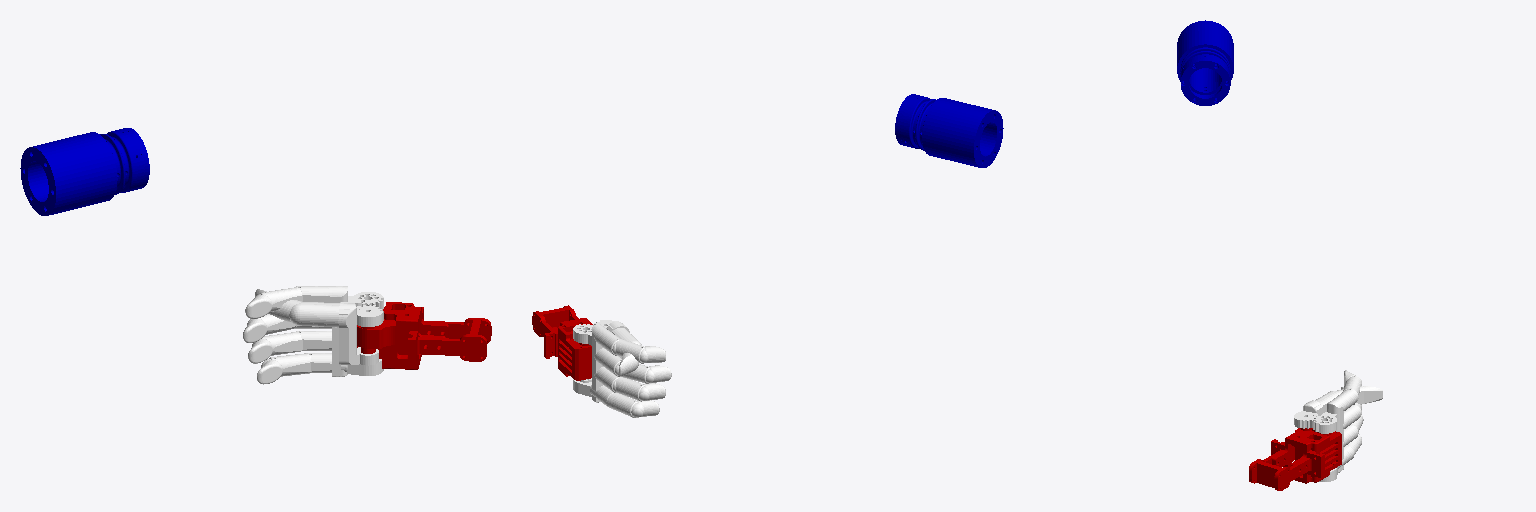
robot.urdf — bmirobot:
<?xml version="1.0" ?>
<!-- =================================================================================== -->
<!-- |    This document was autogenerated by xacro from [local-path]/Documents/ws_moveit/src/bmirobot_pkg/bmirobot_description/urdf/bmirobot_V4.xacro | -->
<!-- |    EDITING THIS FILE BY HAND IS NOT RECOMMENDED                                 | -->
<!-- =================================================================================== -->
<robot name="bmirobot" xmlns:xacro="http://www.ros.org/wiki/xacro">
  <!-- Space btw top of beam and the each joint -->
  <material name="black">
    <color rgba="0.0 0.0 0.0 1.0"/>
  </material>
  <material name="blue">
    <color rgba="0.0 0.0 0.8 1.0"/>
  </material>
  <material name="green">
    <color rgba="0.0 0.8 0.0 1.0"/>
  </material>
  <material name="grey">
    <color rgba="0.2 0.2 0.2 1.0"/>
  </material>
  <material name="orange">
    <color rgba="1.0 0.423529411765 0.0392156862745 1.0"/>
  </material>
  <material name="brown">
    <color rgba="0.870588235294 0.811764705882 0.764705882353 1.0"/>
  </material>
  <material name="red">
    <color rgba="0.8 0.0 0.0 1.0"/>
  </material>
  <material name="white">
    <color rgba="1.0 1.0 1.0 1.0"/>
  </material>
  <!-- Used for fixing robot to Gazebo 'base_link' -->
  <link name="world"/>
  <joint name="fixed" type="fixed">
    <parent link="world"/>
    <child link="odom_combined"/>
  </joint>
  <link name="odom_combined"/>
  <joint name="virtual_joint" type="fixed">
    <parent link="odom_combined"/>
    <child link="base_link"/>
    <origin rpy="0 0 0" xyz="0 0 0.45"/>
  </joint>
  <link name="base_link">
    <visual>
      <geometry>
        <mesh filename="package://test_robot/stl/link1.STL"/>
      </geometry>
      <material name="blue"/>
    </visual>
    <collision>
      <geometry>
        <mesh filename="package://test_robot/stl/link1.STL"/>
      </geometry>
    </collision>
    <inertial>
      <origin rpy="0 0 0" xyz="0 0 1"/>
      <mass value="1"/>
      <inertia ixx="1.0" ixy="0.0" ixz="0.0" iyy="1.0" iyz="0.0" izz="1.0"/>
    </inertial>
  </link>
  <link name="link2">
    <visual>
      <geometry>
        <mesh filename="package://test_robot/stl/link2.STL"/>
      </geometry>
      <origin rpy="0 0 0" xyz="0 0 0"/>
      <material name="white"/>
    </visual>
    <collision>
      <geometry>
        <mesh filename="package://test_robot/stl/link2.STL"/>
      </geometry>
      <origin rpy="0 0 0" xyz="0 0 0"/>
    </collision>
    <inertial>
      <origin rpy="0 0 0" xyz="0 0 1"/>
      <mass value="1"/>
      <inertia ixx="1.0" ixy="0.0" ixz="0.0" iyy="1.0" iyz="0.0" izz="1.0"/>
    </inertial>
  </link>
  <link name="link3">
    <visual>
      <geometry>
        <mesh filename="package://test_robot/stl/link3.STL"/>
      </geometry>
      <origin rpy="0 0 0" xyz="0 0 0"/>
      <material name="blue"/>
    </visual>
    <collision>
      <geometry>
        <mesh filename="package://test_robot/stl/link3.STL"/>
      </geometry>
      <origin rpy="0 0 0" xyz="0 0 0"/>
    </collision>
    <inertial>
      <origin rpy="0 0 0" xyz="0 0 1"/>
      <mass value="1"/>
      <inertia ixx="1.0" ixy="0.0" ixz="0.0" iyy="1.0" iyz="0.0" izz="1.0"/>
    </inertial>
  </link>
  <link name="link4">
    <visual>
      <geometry>
        <mesh filename="package://test_robot/stl/link2.STL"/>
      </geometry>
      <origin rpy="0 0 0" xyz="0 0 0"/>
      <material name="white"/>
    </visual>
    <collision>
      <geometry>
        <mesh filename="package://test_robot/stl/link2.STL"/>
      </geometry>
      <origin rpy="0 0 0" xyz="0 0 0"/>
    </collision>
    <inertial>
      <origin rpy="0 0 0" xyz="0 0 1"/>
      <mass value="1"/>
      <inertia ixx="1.0" ixy="0.0" ixz="0.0" iyy="1.0" iyz="0.0" izz="1.0"/>
    </inertial>
  </link>
  <link name="link5">
    <visual>
      <geometry>
        <mesh filename="package://test_robot/stl/link5.STL"/>
      </geometry>
      <origin rpy="0 0 0" xyz="0 0 0"/>
      <material name="blue"/>
    </visual>
    <collision>
      <geometry>
        <mesh filename="package://test_robot/stl/link5.STL"/>
      </geometry>
      <origin rpy="0 0 0" xyz="0 0 0"/>
    </collision>
    <inertial>
      <origin rpy="0 0 0" xyz="0 0 1"/>
      <mass value="1"/>
      <inertia ixx="1.0" ixy="0.0" ixz="0.0" iyy="1.0" iyz="0.0" izz="1.0"/>
    </inertial>
  </link>
  <link name="link6">
    <visual>
      <geometry>
        <mesh filename="package://test_robot/stl/link6.STL"/>
      </geometry>
      <origin rpy="0 0 0" xyz="0 0 0"/>
      <material name="red"/>
    </visual>
    <collision>
      <geometry>
        <mesh filename="package://test_robot/stl/link6.STL"/>
      </geometry>
      <origin rpy="0 0 0" xyz="0 0 0"/>
    </collision>
    <inertial>
      <origin rpy="0 0 0" xyz="0 0 1"/>
      <mass value="1"/>
      <inertia ixx="1.0" ixy="0.0" ixz="0.0" iyy="1.0" iyz="0.0" izz="1.0"/>
    </inertial>
  </link>
  <link name="link7">
    <visual>
      <geometry>
        <mesh filename="package://test_robot/stl/link7.STL"/>
      </geometry>
      <origin rpy="0 0 0" xyz="0 0 0"/>
      <material name="blue"/>
    </visual>
    <collision>
      <geometry>
        <mesh filename="package://test_robot/stl/link7.STL"/>
      </geometry>
      <origin rpy="0 0 0" xyz="0 0 0"/>
    </collision>
    <inertial>
      <origin rpy="0 0 0" xyz="0 0 1"/>
      <mass value="1"/>
      <inertia ixx="1.0" ixy="0.0" ixz="0.0" iyy="1.0" iyz="0.0" izz="1.0"/>
    </inertial>
  </link>
  <link name="link8">
    <visual>
      <geometry>
        <mesh filename="package://test_robot/stl/link8.STL"/>
      </geometry>
      <origin rpy="0 0 0" xyz="0 0 0"/>
      <material name="red"/>
    </visual>
    <collision>
      <geometry>
        <mesh filename="package://test_robot/stl/link8.STL"/>
      </geometry>
      <origin rpy="0 0 0" xyz="0 0 0"/>
    </collision>
    <inertial>
      <origin rpy="0 0 0" xyz="0 0 1"/>
      <mass value="1"/>
      <inertia ixx="1.0" ixy="0.0" ixz="0.0" iyy="1.0" iyz="0.0" izz="1.0"/>
    </inertial>
  </link>
  <link name="hand_1">
    <visual>
      <geometry>
        <mesh filename="package://test_robot/stl/hand_1.STL"/>
      </geometry>
      <origin rpy="0 0 0" xyz="0 0 0"/>
      <material name="white"/>
    </visual>
    <collision>
      <geometry>
        <mesh filename="package://test_robot/stl/hand_1.STL"/>
      </geometry>
      <origin rpy="0 0 0" xyz="0 0 0"/>
    </collision>
    <inertial>
      <origin rpy="0 0 0" xyz="0 0 1"/>
      <mass value="1"/>
      <inertia ixx="1.0" ixy="0.0" ixz="0.0" iyy="1.0" iyz="0.0" izz="1.0"/>
    </inertial>
  </link>
  <link name="hand_4">
    <visual>
      <geometry>
        <mesh filename="package://test_robot/stl/hand_4.STL"/>
      </geometry>
      <origin rpy="0 0 0" xyz="0 0 0"/>
      <material name="white"/>
    </visual>
    <collision>
      <geometry>
        <mesh filename="package://test_robot/stl/hand_4.STL"/>
      </geometry>
      <origin rpy="0 0 0" xyz="0 0 0"/>
    </collision>
    <inertial>
      <origin rpy="0 0 0" xyz="0 0 1"/>
      <mass value="1"/>
      <inertia ixx="1.0" ixy="0.0" ixz="0.0" iyy="1.0" iyz="0.0" izz="1.0"/>
    </inertial>
  </link>
  <joint name="joint1" type="revolute">
    <limit effort="1000.0" lower="-1.25663706144" upper="1.25663706144" velocity="0.5"/>
    <origin rpy="0 0 0" xyz="0.026 0 0"/>
    <axis xyz="1 0 0"/>
    <parent link="base_link"/>
    <child link="link2"/>
    <dynamics damping="0.7"/>
  </joint>
  <joint name="joint2" type="revolute">
    <limit effort="1000.0" lower="-1.88495559215" upper="0.575958653158" velocity="0.5"/>
    <origin rpy="0 1.5708 0" xyz="0.063 0 0"/>
    <axis xyz="0 1 0"/>
    <parent link="link2"/>
    <child link="link3"/>
    <dynamics damping="0.7"/>
  </joint>
  <joint name="joint3" type="revolute">
    <limit effort="1000.0" lower="-1.25663706144" upper="1.25663706144" velocity="0.5"/>
    <origin rpy="0 0 0" xyz="0.1826 0 0"/>
    <axis xyz="1 0 0"/>
    <parent link="link3"/>
    <child link="link4"/>
    <dynamics damping="0.7"/>
  </joint>
  <joint name="joint4" type="revolute">
    <limit effort="1000.0" lower="-0.63" upper="1.25663706144" velocity="0.5"/>
    <origin rpy="0 -1.5708 0" xyz="0.063 0 0"/>
    <axis xyz="0 1 0"/>
    <parent link="link4"/>
    <child link="link5"/>
    <dynamics damping="0.7"/>
  </joint>
  <joint name="joint5" type="revolute">
    <limit effort="1000.0" lower="-2.51327412287" upper="2.51327412287" velocity="0.5"/>
    <origin rpy="-1.5708 0 0" xyz="0.211 0 0.000"/>
    <axis xyz="1 0 0"/>
    <parent link="link5"/>
    <child link="link6"/>
    <dynamics damping="0.7"/>
  </joint>
  <joint name="joint6" type="revolute">
    <limit effort="1000.0" lower="-2.51327412287" upper="-2.51327412287" velocity="0.5"/>
    <origin rpy="0 0.0 0" xyz="0.1845 0 0"/>
    <axis xyz="0 1 0"/>
    <parent link="link6"/>
    <child link="link7"/>
    <dynamics damping="0.7"/>
  </joint>
  <joint name="joint7" type="revolute">
    <limit effort="1000.0" lower="-0.25" upper="0.25" velocity="0.5"/>
    <origin rpy="0 0.0 0" xyz="0.1 0 0"/>
    <axis xyz="0 0 1"/>
    <parent link="link7"/>
    <child link="link8"/>
    <dynamics damping="0.7"/>
  </joint>
  <joint name="hand_joint_1" type="revolute">
    <limit effort="1000.0" lower="-0.9" upper="0" velocity="0.5"/>
    <origin rpy="0 0 0" xyz="0.0775 -0.0265 0.01475"/>
    <axis xyz="0 1 0"/>
    <parent link="link8"/>
    <child link="hand_1"/>
    <dynamics damping="0.7"/>
  </joint>
  <joint name="hand_joint_4" type="revolute">
    <limit effort="1000.0" lower="0" upper="0.9" velocity="0.5"/>
    <origin rpy="0 0 0" xyz="0.0795 -0.0185 -0.005"/>
    <axis xyz="0 1 0"/>
    <parent link="link8"/>
    <child link="hand_4"/>
    <dynamics damping="0.7"/>
  </joint>
  <!--joint name="camera_joint" type="fixed">
    <axis xyz="0 1 0" />
    <origin xyz="${camera_link} 0 -0.05" rpy="${0.5 * pi} 0 0"/>
    <parent link="link8"/>
    <child link="camera_link"/>
  </joint-->
  <joint name="rgbd_joint" type="fixed">
    <axis xyz="1 0 0"/>
    <origin rpy="0 0.942477796077 0" xyz="0 0.25 0.2"/>
    <parent link="base_link"/>
    <child link="rgbd_link"/>
  </joint>
  <!-- rgbd Camera -->
  <!--
  <link name="camera_depth_optical_frame">
    <collision>
      <origin xyz="0 0 0" rpy="0 0 0"/>
      <geometry>
    <box size="0.001 0.001 0.001"/>
      </geometry>
    </collision>

    <visual>
      <origin xyz="0 0 0" rpy="0 0 0"/>
      <geometry>
    <box size="0.001 0.001 0.001"/>
      </geometry>
      <material name="red"/>
    </visual>

    <inertial>
      <mass value="1e-5" />
      <origin xyz="0 0 0" rpy="0 0 0"/>
      <inertia ixx="1e-6" ixy="0" ixz="0" iyy="1e-6" iyz="0" izz="1e-6" />
    </inertial>
  </link>
  <joint name="camera_depth_optical_frame_joint" type="fixed">
    <axis xyz="1 0 0" />
    <origin xyz="0 0.25 0.2" rpy="${0.2 * pi} ${-1 * pi} ${0.5 * pi}"/>
    <parent link="base_link"/>
    <child link="camera_depth_optical_frame"/>
  </joint>
-->
  <!-- rgbd Camera -->
  <!--link name="camera_link">
    <collision>
      <origin xyz="0 0 0" rpy="0 0 0"/>
      <geometry>
    <box size="${camera_link} ${camera_link} ${camera_link}"/>
      </geometry>
    </collision>

    <visual>
      <origin xyz="0 0 0" rpy="0 0 0"/>
      <geometry>
    <box size="${camera_link} ${camera_link} ${camera_link}"/>
      </geometry>
      <material name="red"/>
    </visual>

    <inertial>
      <mass value="1e-5" />
      <origin xyz="0 0 0" rpy="0 0 0"/>
      <inertia ixx="1e-6" ixy="0" ixz="0" iyy="1e-6" iyz="0" izz="1e-6" />
    </inertial>
  </link-->
  <!-- kinect -->
  <link name="rgbd_link">
    <collision>
      <origin rpy="0 0 0" xyz="0 0 0"/>
      <geometry>
        <box size="0.025 0.025 0.025"/>
      </geometry>
    </collision>
    <visual>
      <origin rpy="0 0 0" xyz="0 0 0"/>
      <geometry>
        <mesh filename="package://moveit_resources/test/urdf/meshes/sensors/kinect_v0/kinect.dae" scale="0.001 0.001 0.001"/>
      </geometry>
      <material name="red"/>
    </visual>
    <inertial>
      <mass value="1e-5"/>
      <origin rpy="0 0 0" xyz="0 0 0"/>
      <inertia ixx="1e-6" ixy="0" ixz="0" iyy="1e-6" iyz="0" izz="1e-6"/>
    </inertial>
  </link>
  <transmission name="tran1">
    <type>transmission_interface/SimpleTransmission</type>
    <joint name="joint1">
      <hardwareInterface>PositionJointInterface</hardwareInterface>
    </joint>
    <actuator name="motor1">
      <hardwareInterface>PositionJointInterface</hardwareInterface>
      <mechanicalReduction>1</mechanicalReduction>
    </actuator>
  </transmission>
  <transmission name="tran2">
    <type>transmission_interface/SimpleTransmission</type>
    <joint name="joint2">
      <hardwareInterface>PositionJointInterface</hardwareInterface>
    </joint>
    <actuator name="motor2">
      <hardwareInterface>PositionJointInterface</hardwareInterface>
      <mechanicalReduction>1</mechanicalReduction>
    </actuator>
  </transmission>
  <transmission name="tran3">
    <type>transmission_interface/SimpleTransmission</type>
    <joint name="joint3">
      <hardwareInterface>PositionJointInterface</hardwareInterface>
    </joint>
    <actuator name="motor3">
      <hardwareInterface>PositionJointInterface</hardwareInterface>
      <mechanicalReduction>1</mechanicalReduction>
    </actuator>
  </transmission>
  <transmission name="tran4">
    <type>transmission_interface/SimpleTransmission</type>
    <joint name="joint4">
      <hardwareInterface>PositionJointInterface</hardwareInterface>
    </joint>
    <actuator name="motor4">
      <hardwareInterface>PositionJointInterface</hardwareInterface>
      <mechanicalReduction>1</mechanicalReduction>
    </actuator>
  </transmission>
  <transmission name="tran5">
    <type>transmission_interface/SimpleTransmission</type>
    <joint name="joint5">
      <hardwareInterface>PositionJointInterface</hardwareInterface>
    </joint>
    <actuator name="motor5">
      <hardwareInterface>PositionJointInterface</hardwareInterface>
      <mechanicalReduction>1</mechanicalReduction>
    </actuator>
  </transmission>
  <transmission name="tran6">
    <type>transmission_interface/SimpleTransmission</type>
    <joint name="joint6">
      <hardwareInterface>PositionJointInterface</hardwareInterface>
    </joint>
    <actuator name="motor6">
      <hardwareInterface>PositionJointInterface</hardwareInterface>
      <mechanicalReduction>1</mechanicalReduction>
    </actuator>
  </transmission>
  <transmission name="tran7">
    <type>transmission_interface/SimpleTransmission</type>
    <joint name="joint7">
      <hardwareInterface>PositionJointInterface</hardwareInterface>
    </joint>
    <actuator name="motor7">
      <hardwareInterface>PositionJointInterface</hardwareInterface>
      <mechanicalReduction>1</mechanicalReduction>
    </actuator>
  </transmission>
  <transmission name="tran8">
    <type>transmission_interface/SimpleTransmission</type>
    <joint name="hand_joint_1">
      <hardwareInterface>PositionJointInterface</hardwareInterface>
    </joint>
    <actuator name="motor8">
      <hardwareInterface>PositionJointInterface</hardwareInterface>
      <mechanicalReduction>1</mechanicalReduction>
    </actuator>
  </transmission>
  <transmission name="tran9">
    <type>transmission_interface/SimpleTransmission</type>
    <joint name="hand_joint_4">
      <hardwareInterface>PositionJointInterface</hardwareInterface>
    </joint>
    <actuator name="motor8">
      <hardwareInterface>PositionJointInterface</hardwareInterface>
      <mechanicalReduction>1</mechanicalReduction>
    </actuator>
  </transmission>
</robot>

--- Render facts (derived) ---
3 views of the same robot in one strip: view 1: azimuth 30°, elevation 25°; view 2: azimuth 150°, elevation 25°; view 3: azimuth 270°, elevation 25° (orthographic).
Robot: bmirobot — 13 links, 12 joints (9 revolute, 3 fixed); root link world; default pose: all joints at 0 but 1 set to mid-range because 0 is outside their limits (joint6 = -2.51).
Visible links, largest first — view 1: base_link, hand_4, link8, hand_1; view 2: base_link, hand_4, link8, hand_1; view 3: base_link, link8, hand_4, hand_1.
Boxes of the visible links, x1,y1,x2,y2 form: base_link: [20, 128, 149, 215]; hand_4: [243, 286, 383, 384]; link8: [357, 302, 491, 369]; hand_1: [255, 289, 383, 365]; base_link: [895, 94, 1003, 167]; hand_4: [573, 324, 671, 417]; link8: [532, 305, 592, 380]; hand_1: [594, 320, 641, 375]; base_link: [1177, 20, 1233, 105]; link8: [1249, 428, 1341, 490]; hand_4: [1313, 370, 1363, 481]; hand_1: [1294, 386, 1382, 428].
Bounding box of the posed robot: 0.4214 × 0.1887 × 0.3041 m (x, y, z).
Meshes: 10 distinct files referenced, 4 mesh visuals loaded (4 binary STL); not drawn: 7 (reference not matched to a file when rendering).